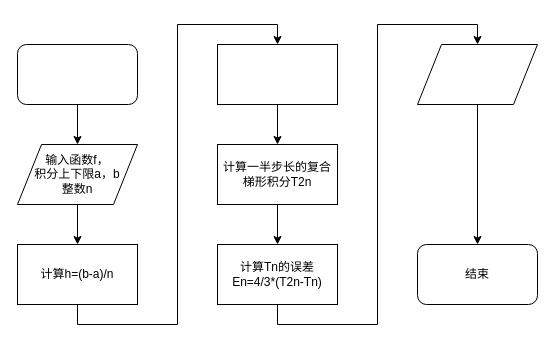
Some shapes in this 555 by 350 pixel diagram are drawn without their labels. The shapes that lost their labels are listed below. From the top down, each one's box as (x1, y1, x2, y2) in pixels, then its label:
(16, 44, 138, 104): 开始
(216, 44, 338, 104): 计算一倍步长的复合梯形积分Tn
(416, 44, 538, 104): 输出结果Tn 以及误差En
